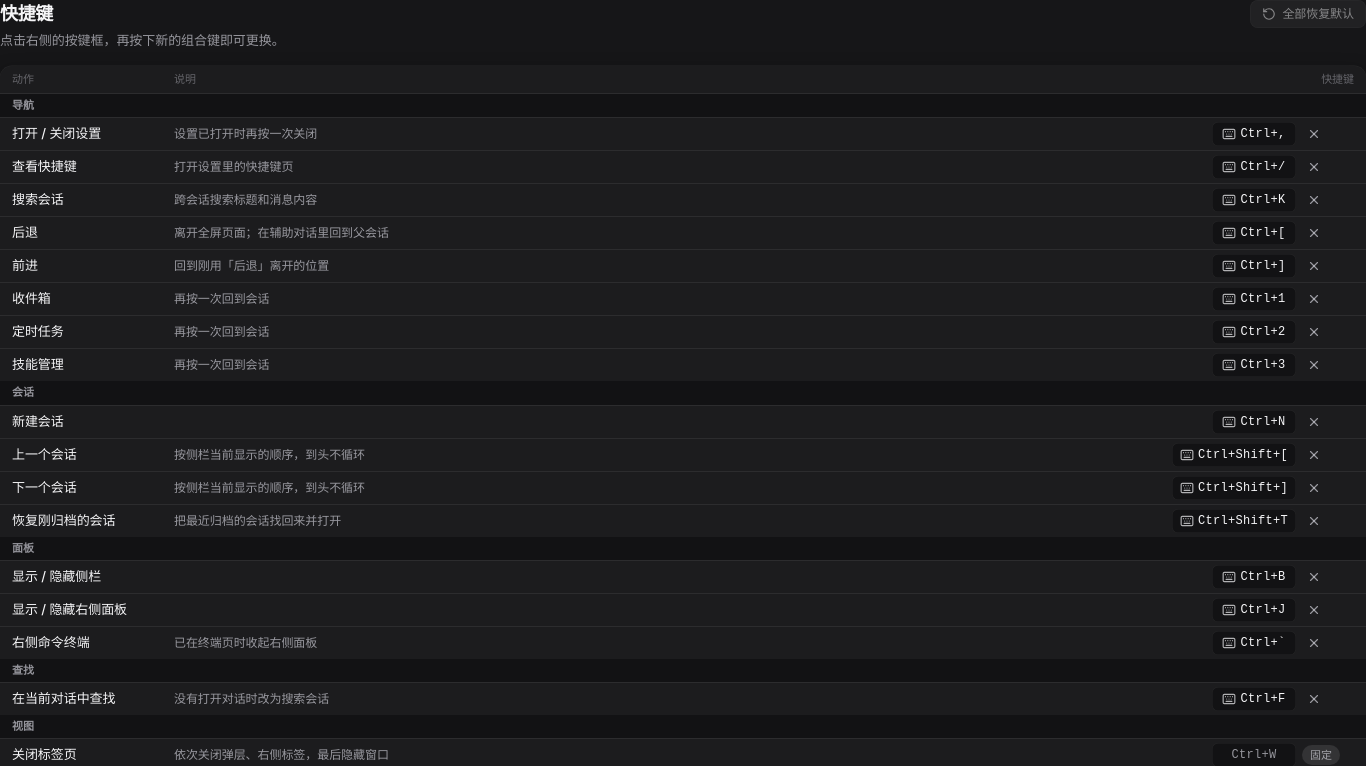
Test case: ShortcutsSection › conflict with a fixed shortcut offers only giving up
Click the button "Ctrl+N". click: click(1254, 422)
box: [1212,410,1296,434]
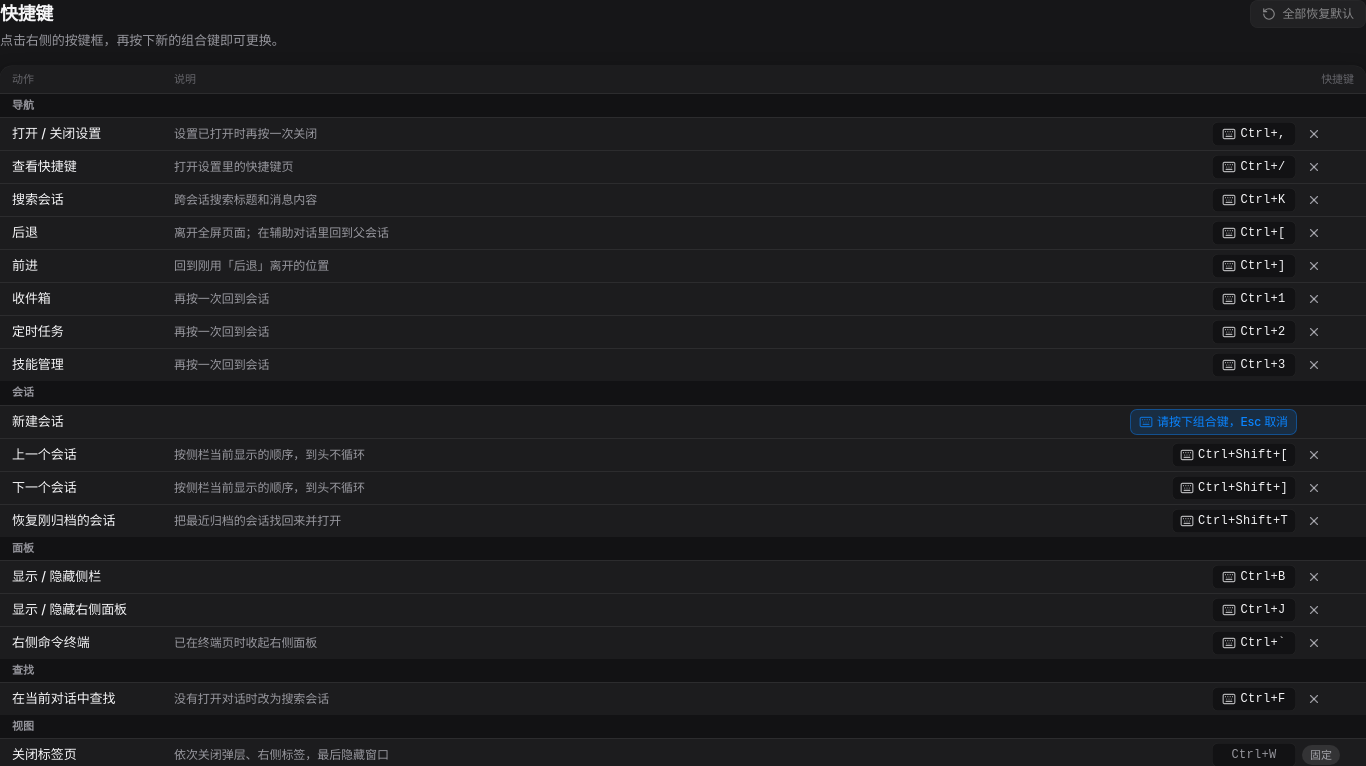
Press KeyW
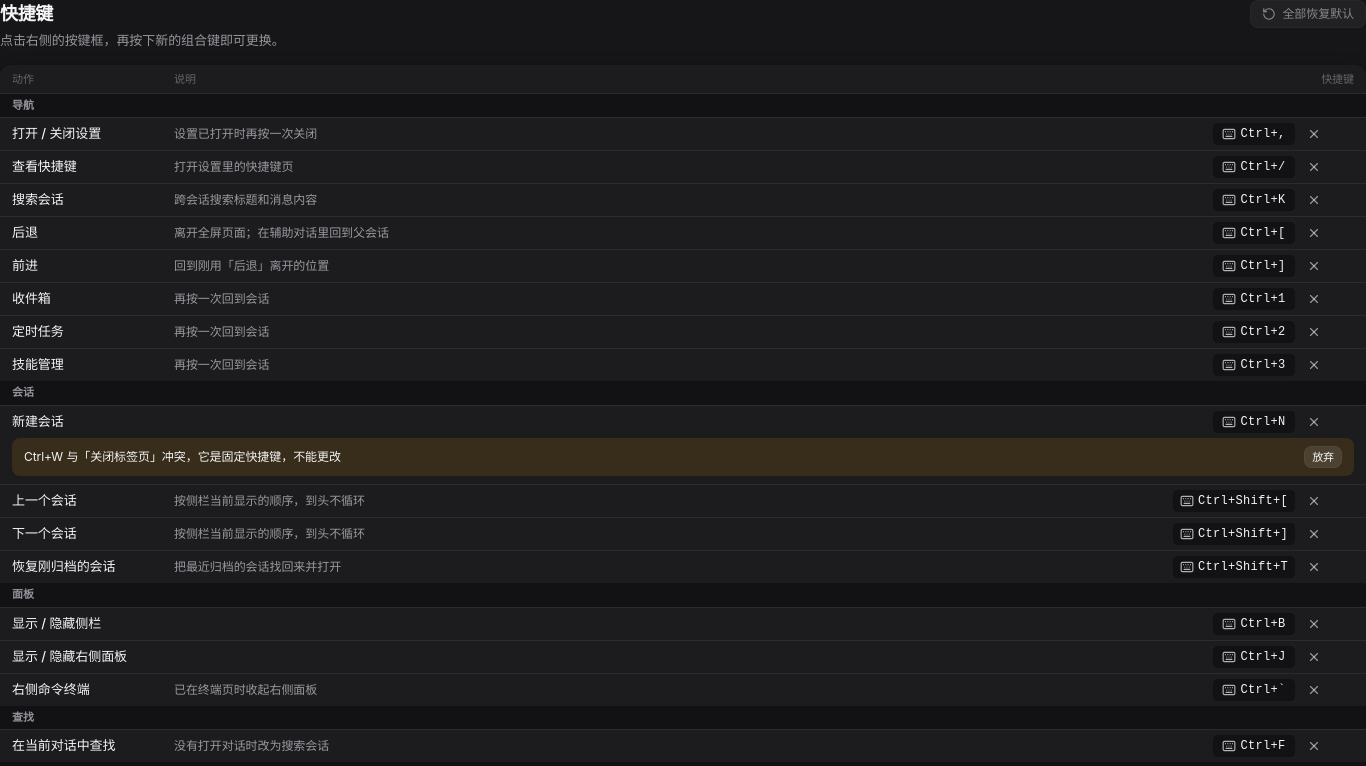
Now the message "Ctrl+W 与「关闭标签页」冲突，它是固定快捷键，不能更改 放弃" is shown, box [12,438,1354,476]
